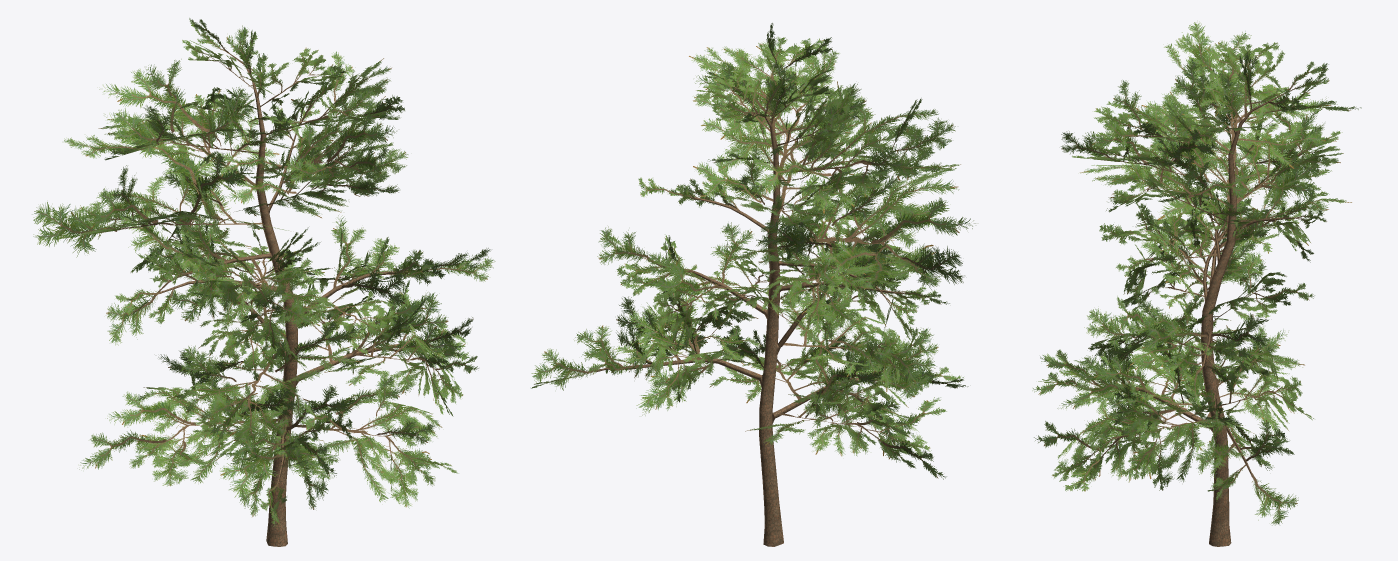
3 views of the same model, side by side, from view 1: azimuth 30°, elevation 25°; view 2: azimuth 150°, elevation 25°; view 3: azimuth 270°, elevation 25° (orthographic). The views are drawn at different scales.
Visible parts, largest first — view 1: Pine_small_2_LOD1_Bark_Mat_0; view 2: Pine_small_2_LOD1_Bark_Mat_0; view 3: Pine_small_2_LOD1_Bark_Mat_0.
Boxes of the visible parts, left/top/right/bottom form: Pine_small_2_LOD1_Bark_Mat_0: left=32, top=18, right=495, bottom=546; Pine_small_2_LOD1_Bark_Mat_0: left=531, top=23, right=975, bottom=546; Pine_small_2_LOD1_Bark_Mat_0: left=1032, top=22, right=1361, bottom=546.
Bounding box in the file's own units: 3.81 × 4.04 × 2.74.
